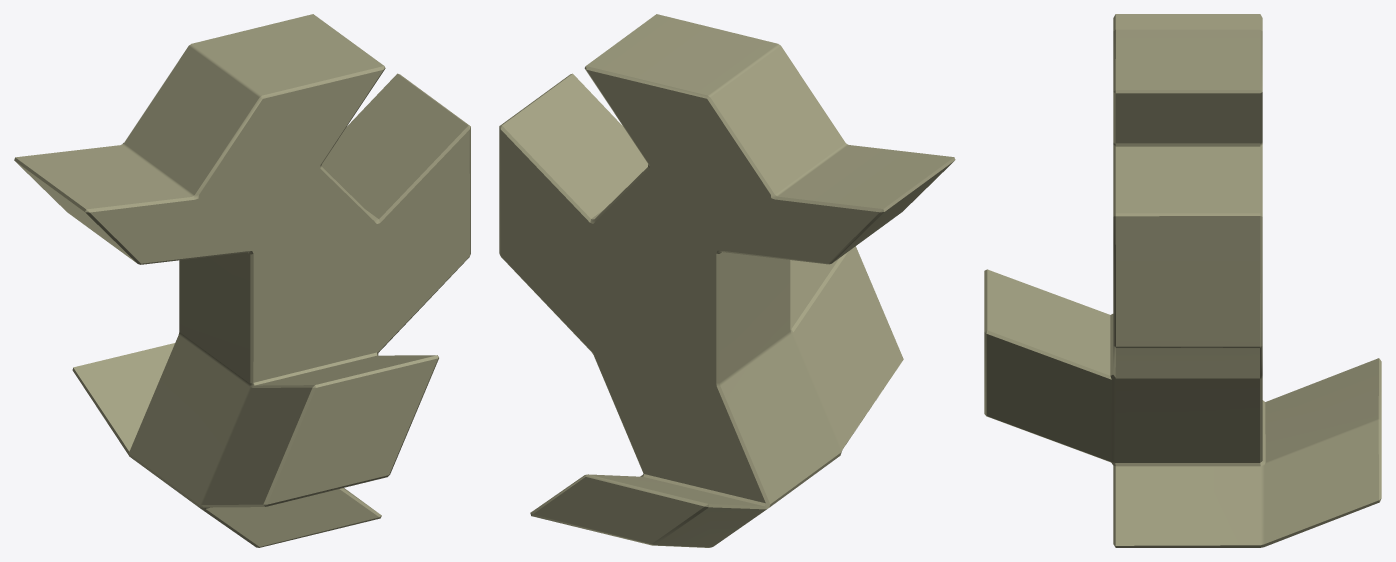
Rendered from Ginseng.fbx.
3 renders of one model, left to right at view 1: azimuth 30°, elevation 25°; view 2: azimuth 150°, elevation 25°; view 3: azimuth 270°, elevation 25°, orthographic.
Parts seen in each view (by area): view 1: pCube1; view 2: pCube1; view 3: pCube1.
Part boxes in pixels (<box>): pCube1: <box>14,14,470,547</box>; pCube1: <box>499,14,955,547</box>; pCube1: <box>984,14,1381,547</box>.
Size of the model in its own units: 3.04 by 3.4 by 2.66.
